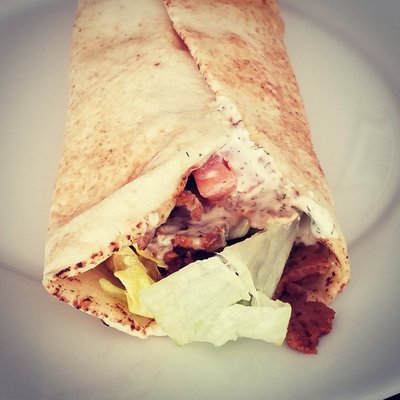soup: (38, 1, 354, 380)
